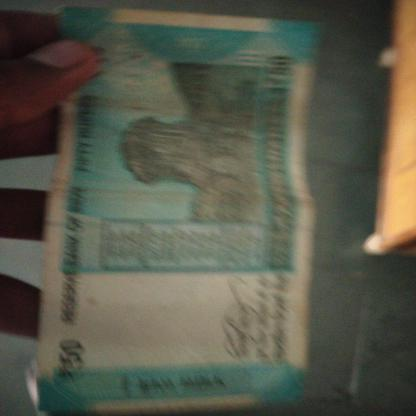New50Back: (66, 21, 306, 410)
